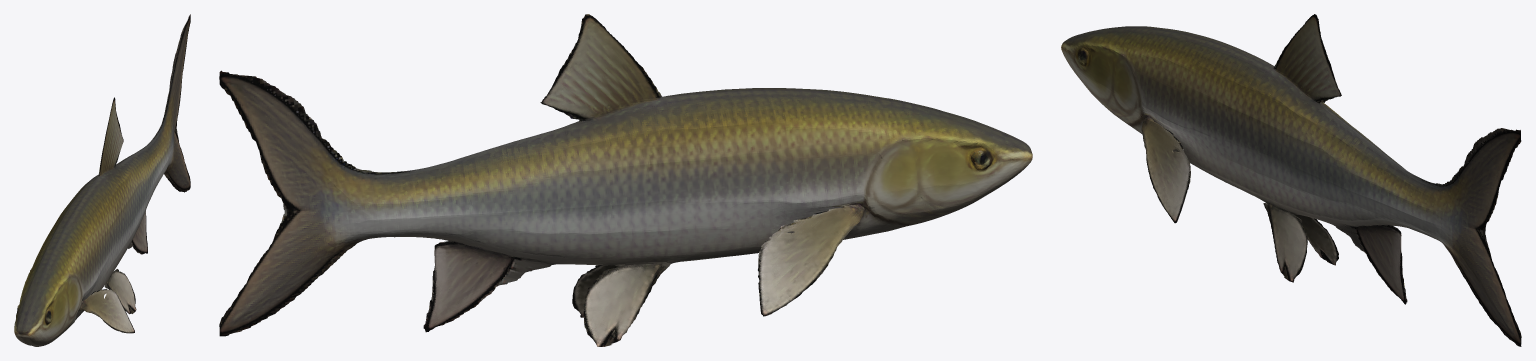
3 renders of one model, left to right at view 1: azimuth 30°, elevation 25°; view 2: azimuth 150°, elevation 25°; view 3: azimuth 270°, elevation 25°, orthographic. The views are drawn at different scales.
Parts seen in each view (by area): view 1: world; view 2: world; view 3: world.
Boxes of the visible parts, x1,y1,x2,y2 form: world: (14,14,190,346); world: (219,14,1032,346); world: (1061,14,1521,346).
Bounding box in the file's own units: 0.25 × 0.1411 × 0.2262.
1 material, 1 textured.
